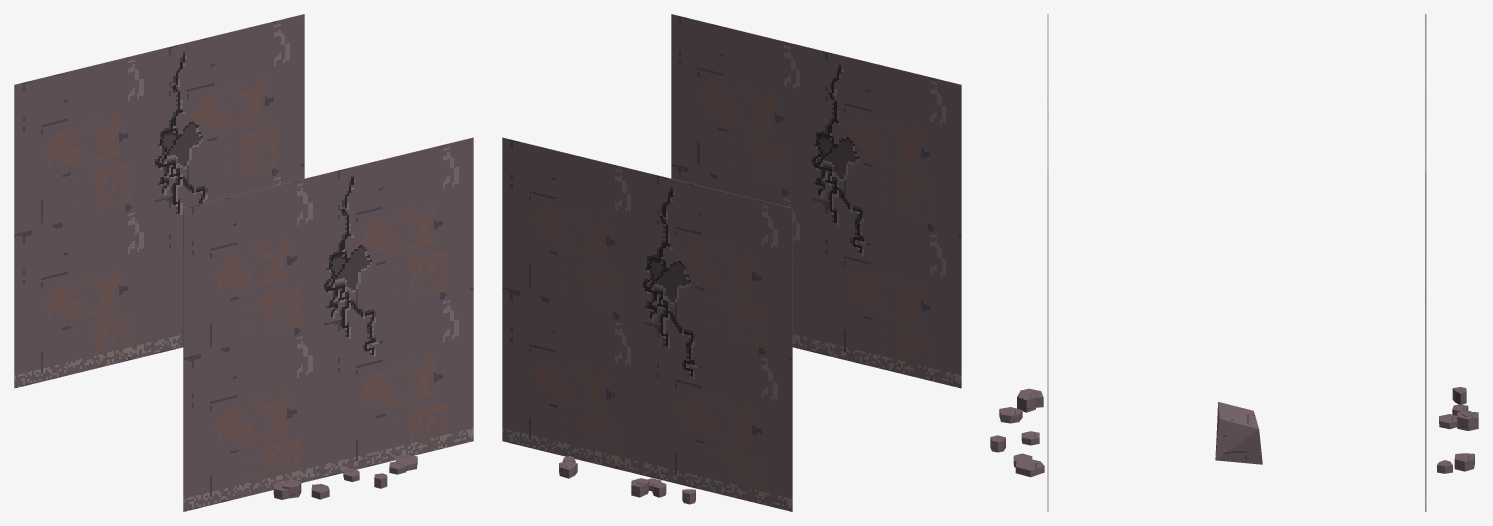
File: cracked_wall_b.glb
The picture shows the model from 3 angles, left to right: view 1: azimuth 30°, elevation 25°; view 2: azimuth 150°, elevation 25°; view 3: azimuth 270°, elevation 25°; orthographic projection. The views are drawn at different scales.
Parts seen in each view (by area): view 1: panel_front, panel_back, debris_front; view 2: panel_back, panel_front, debris_back; view 3: chunk, debris_front, debris_back, panel_back, panel_front.
Part boxes in pixels (x1=…): panel_front: x1=183, y1=137, x2=473, y2=511; panel_back: x1=14, y1=14, x2=304, y2=388; debris_front: x1=273, y1=454, x2=417, y2=499; panel_back: x1=502, y1=137, x2=792, y2=511; panel_front: x1=671, y1=14, x2=961, y2=388; debris_back: x1=559, y1=455, x2=695, y2=504; chunk: x1=1215, y1=402, x2=1262, y2=464; debris_front: x1=990, y1=388, x2=1044, y2=477; debris_back: x1=1437, y1=387, x2=1478, y2=473; panel_back: x1=1425, y1=14, x2=1426, y2=511; panel_front: x1=1047, y1=14, x2=1048, y2=511.
Bounding box in the file's own units: 2 × 2.14 × 2.61.
1 material, 1 textured.
